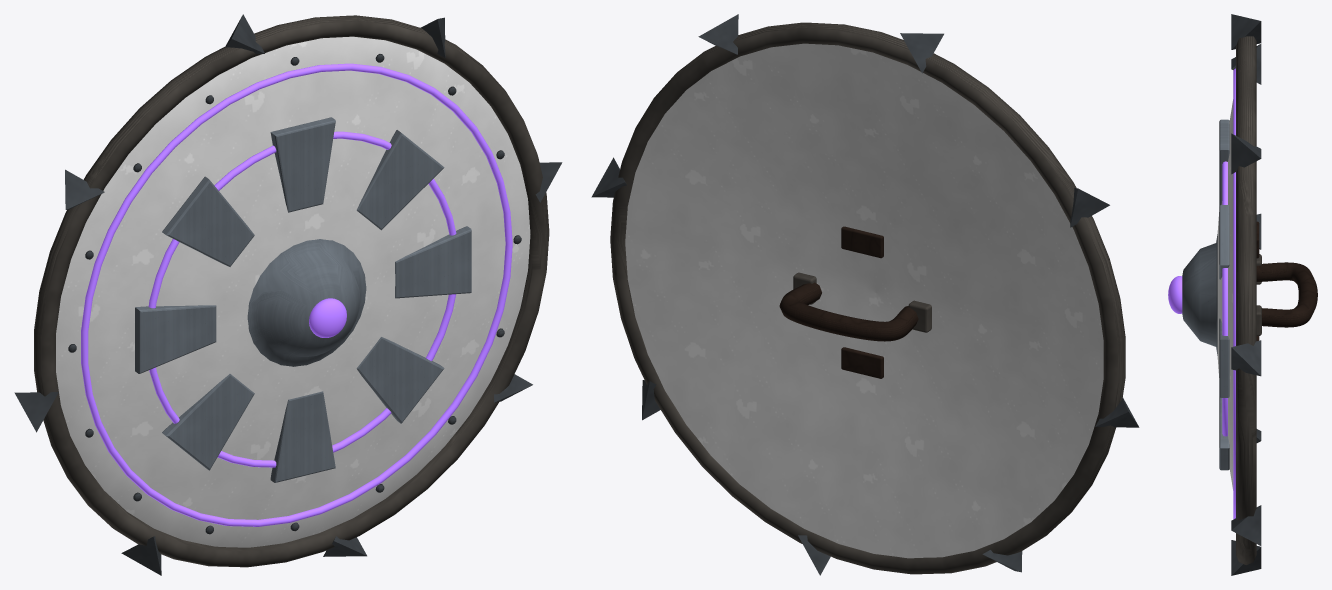
Rendered from void-disc.glb.
3 views of the same model, side by side, from view 1: azimuth 30°, elevation 25°; view 2: azimuth 150°, elevation 25°; view 3: azimuth 270°, elevation 25° (orthographic). The views are drawn at different scales.
Parts seen in each view (by area): view 1: ceramic / ceramic composite panel, alloy / machined anodized alloy, iron / hammer-scaled wrought iron, energy / emissive field channel, darksteel / oil-blackened fittings; view 2: ceramic / ceramic composite panel, iron / hammer-scaled wrought iron, leather / oiled leather wrap, darksteel / oil-blackened fittings; view 3: iron / hammer-scaled wrought iron, alloy / machined anodized alloy, darksteel / oil-blackened fittings, leather / oiled leather wrap, energy / emissive field channel, ceramic / ceramic composite panel.
Part boxes in pixels (x1,y1,x2,y2): ceramic / ceramic composite panel: [56, 36, 530, 547]; alloy / machined anodized alloy: [135, 117, 471, 482]; iron / hammer-scaled wrought iron: [34, 15, 549, 567]; energy / emissive field channel: [81, 63, 512, 526]; darksteel / oil-blackened fittings: [14, 14, 562, 575]; ceramic / ceramic composite panel: [625, 43, 1103, 558]; iron / hammer-scaled wrought iron: [610, 22, 1125, 574]; leather / oiled leather wrap: [779, 226, 918, 378]; darksteel / oil-blackened fittings: [591, 14, 1139, 575]; iron / hammer-scaled wrought iron: [1236, 36, 1261, 564]; alloy / machined anodized alloy: [1182, 119, 1229, 470]; darksteel / oil-blackened fittings: [1231, 14, 1261, 575]; leather / oiled leather wrap: [1256, 221, 1317, 340]; energy / emissive field channel: [1168, 68, 1235, 519]; ceramic / ceramic composite panel: [1217, 99, 1233, 490].
Bounding box in the file's own units: 0.6524 × 0.6524 × 0.1728.
Materials: 6 (5 with a texture image).
